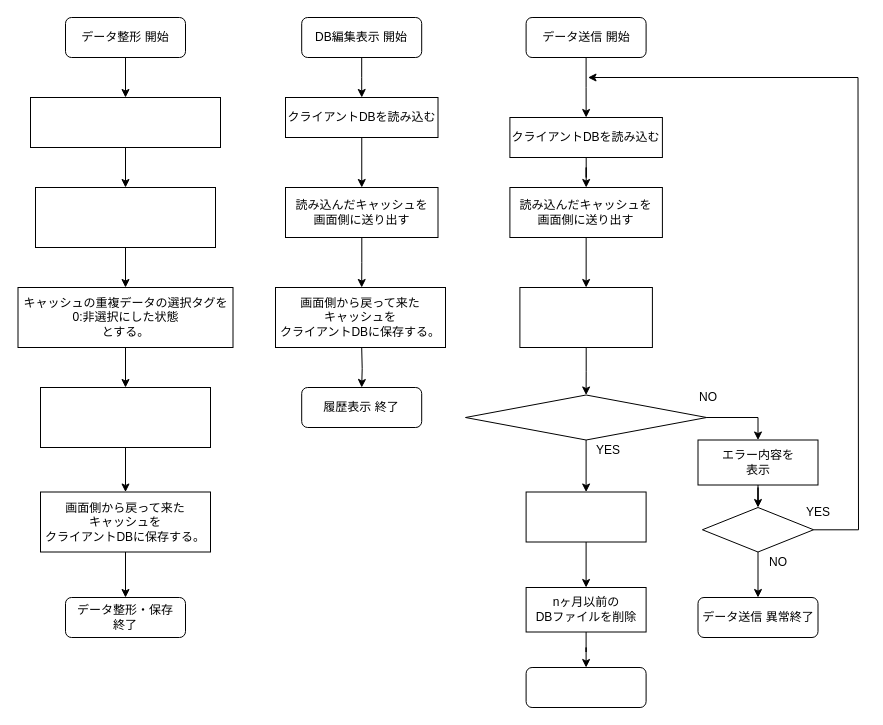
This 883x725 diagram has some shape labels left out. The centre of each missing label's shape, as x and y in pixels:
"GASのAPIにjsonが投げられたか？" belongs at point (585, 417).
"キャッシュと、 クライアント内DBより 重複データの行を検出する。" belongs at point (125, 122).
"キャッシュの全ての選択タグを 1:選択状態とする。 (initialize)" belongs at point (125, 217).
"キャッシュを json形式にする。" belongs at point (585, 317).
"キャッシュを画面側に 送り出す" belongs at point (125, 417).
"データ送信 終了" belongs at point (585, 687).
"再送信？" belongs at point (757, 529).
"送信出来た旨を 画面側に送る" belongs at point (585, 516).
